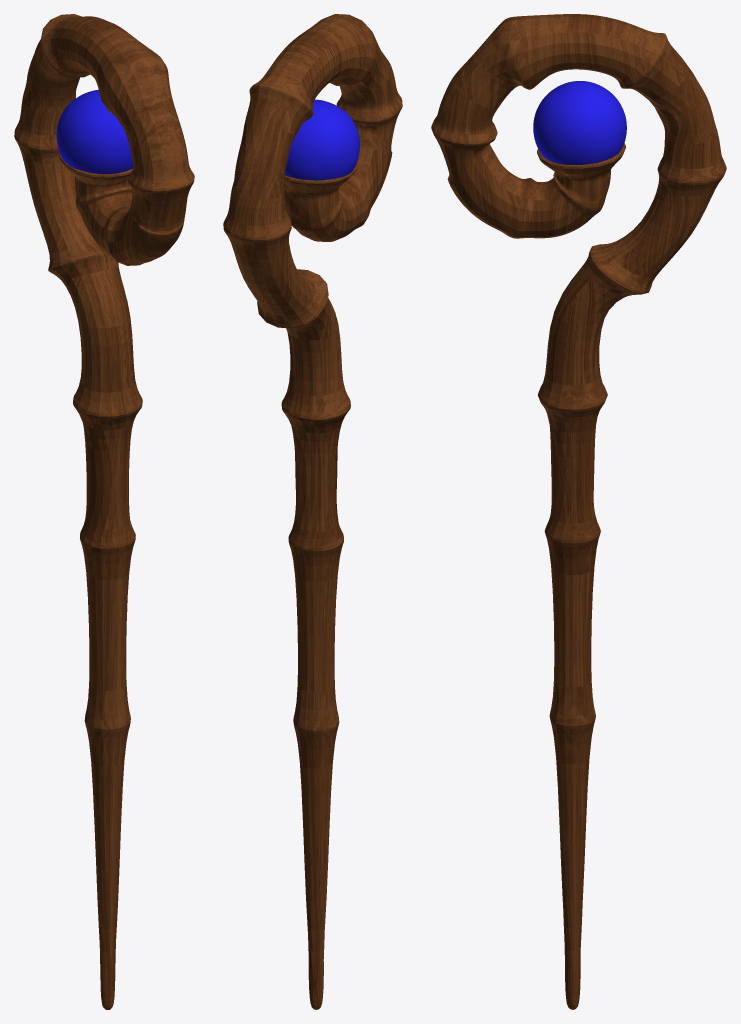
Rendered from Wand.fbx.
The picture shows the model from 3 angles, left to right: view 1: azimuth 30°, elevation 25°; view 2: azimuth 150°, elevation 25°; view 3: azimuth 270°, elevation 25°; orthographic projection.
Parts seen in each view (by area): view 1: wand; view 2: wand; view 3: wand.
Part boxes in pixels (x1,y1,x2,y2): wand: [14, 14, 194, 1009]; wand: [223, 14, 402, 1009]; wand: [431, 14, 726, 1009].
Size of the model in its own units: 9.99 by 117 by 31.5.
Materials: 2 (1 with a texture image).
